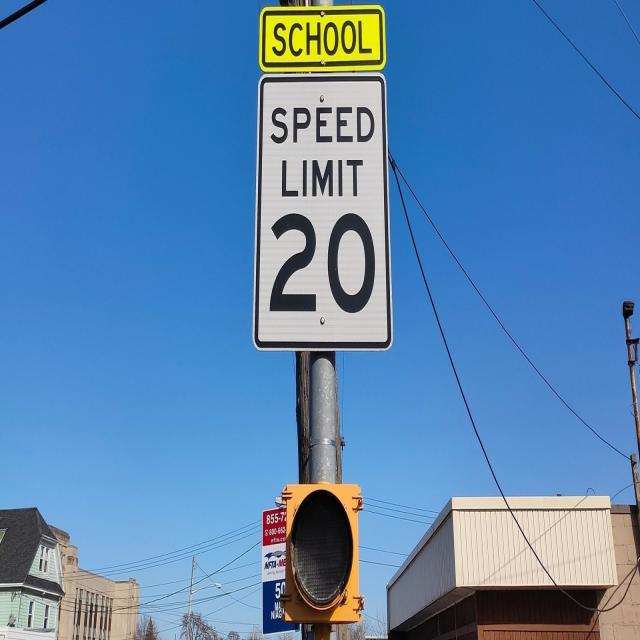speedLimit20: (262, 78, 388, 340)
